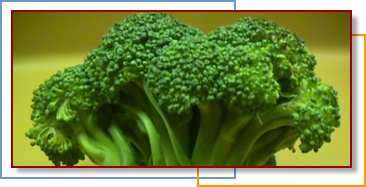broccoli: (15, 10, 343, 169)
